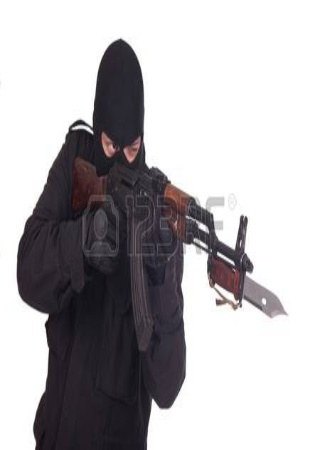rifle: (63, 122, 256, 351)
